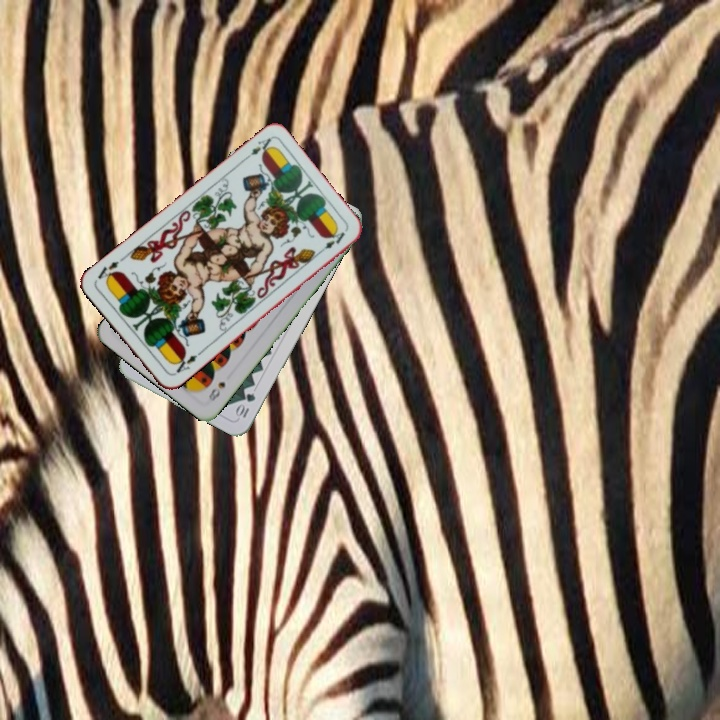EA: (239, 134, 276, 164), (170, 348, 204, 378)
G10: (232, 389, 258, 421)
S8: (204, 378, 228, 404)
